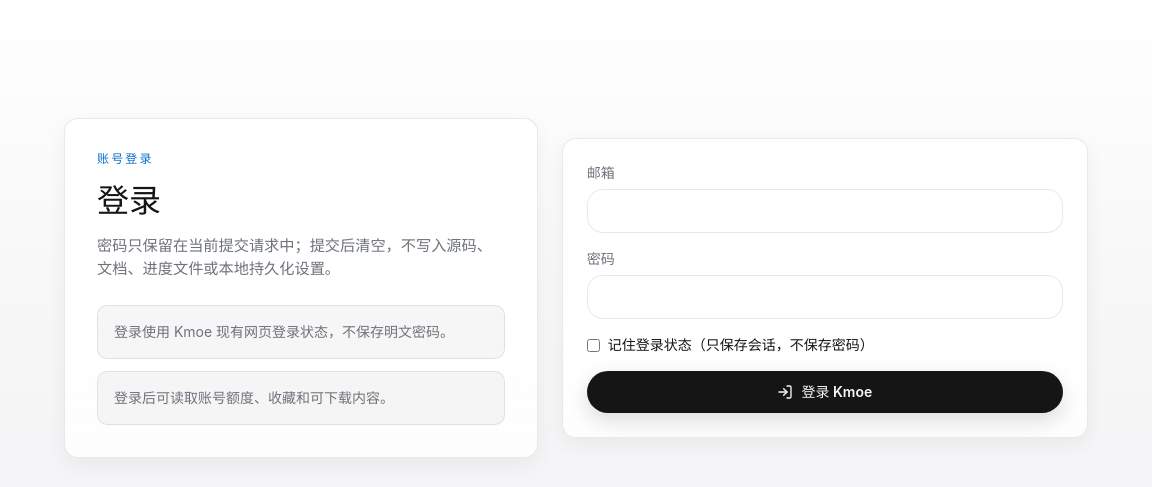
Test case: LoginPage › uses site-compatible input behavior on iPad and does not submit empty credentials
Click the button "登录 Kmoe" at (825, 392), box [587,371,1063,413]
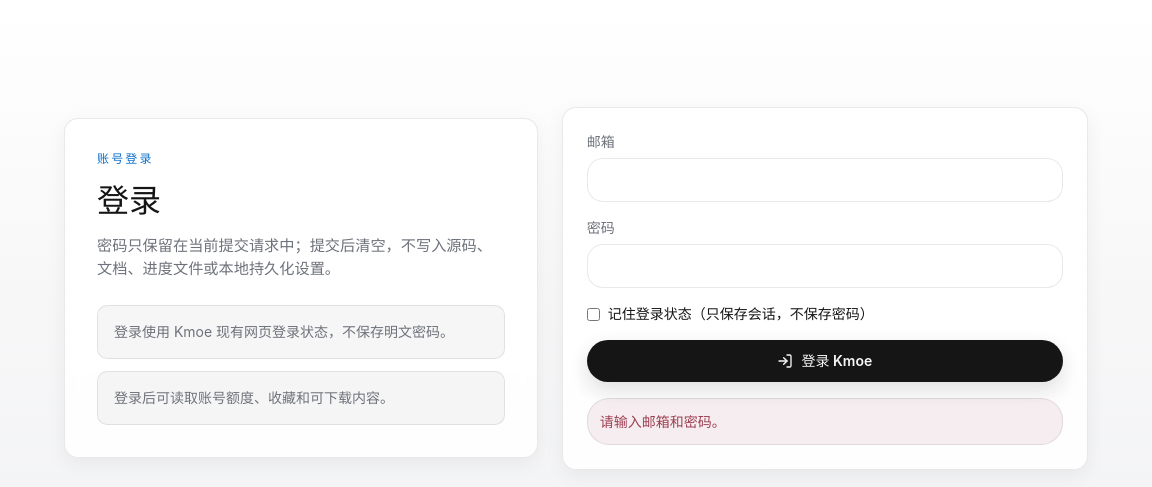
Expected: the text "请输入邮箱和密码。" is shown, [587,398,1063,444]
